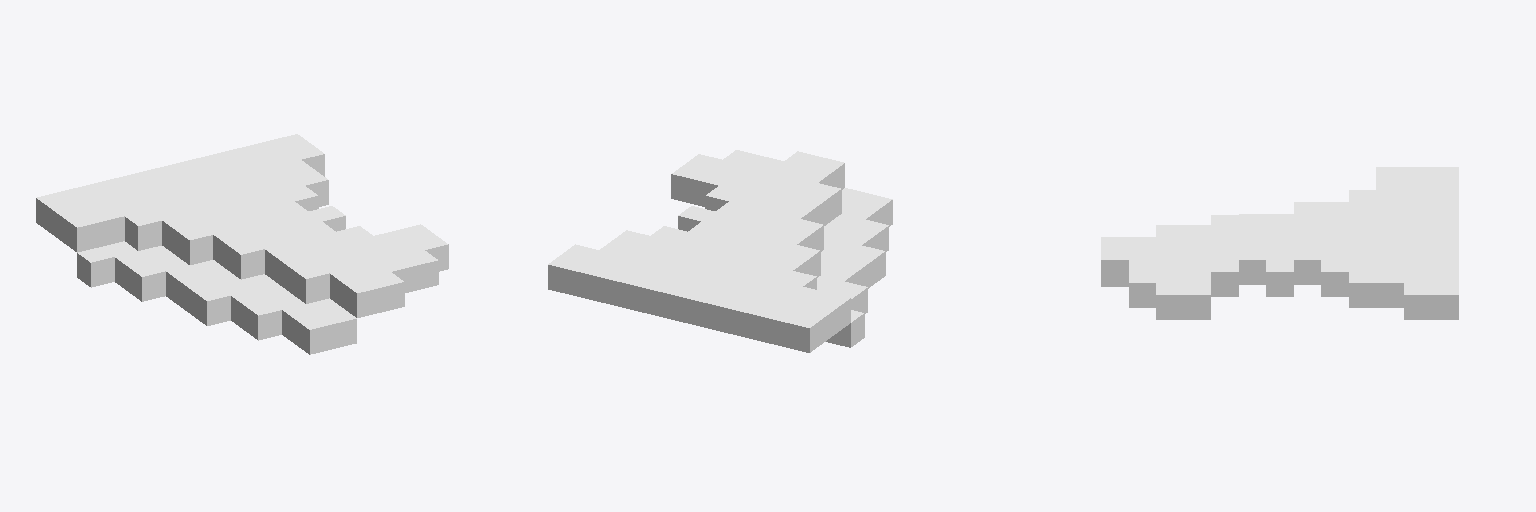
File: stairs_shard-6.obj
3 views of the same model, side by side, from view 1: azimuth 30°, elevation 25°; view 2: azimuth 150°, elevation 25°; view 3: azimuth 270°, elevation 25° (orthographic).
Visible parts, largest first — view 1: object 1; view 2: object 1; view 3: object 1.
Boxes of the visible parts, <box> form: object 1: <box>36,134,448,354</box>; object 1: <box>548,150,892,352</box>; object 1: <box>1101,167,1458,319</box>.
Size of the model in its own units: 1.1 by 0.2 by 1.3.